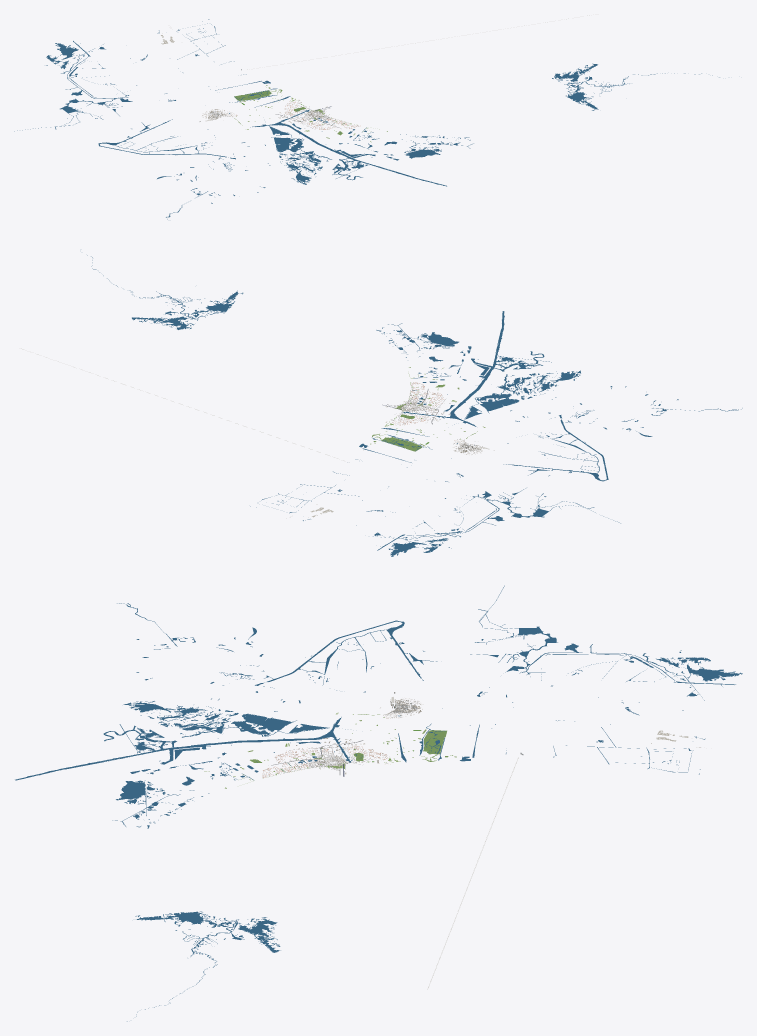
File: land.glb
3 views of the same model, one above another, from view 1: azimuth 30°, elevation 25°; view 2: azimuth 150°, elevation 25°; view 3: azimuth 270°, elevation 25° (orthographic). The views are drawn at different scales.
Visible parts, largest first — view 1: decal-ponds, decal-area-green; view 2: decal-ponds, decal-area-green; view 3: decal-ponds, decal-area-green.
Boxes of the visible parts, x1,y1,x2,y2 form: decal-ponds: [14, 19, 719, 219]; decal-area-green: [234, 85, 387, 142]; decal-ponds: [87, 255, 742, 556]; decal-area-green: [370, 367, 485, 451]; decal-ponds: [15, 585, 742, 1021]; decal-area-green: [204, 712, 456, 788].
Size of the model in its own units: 232215 by 717 by 163950.
